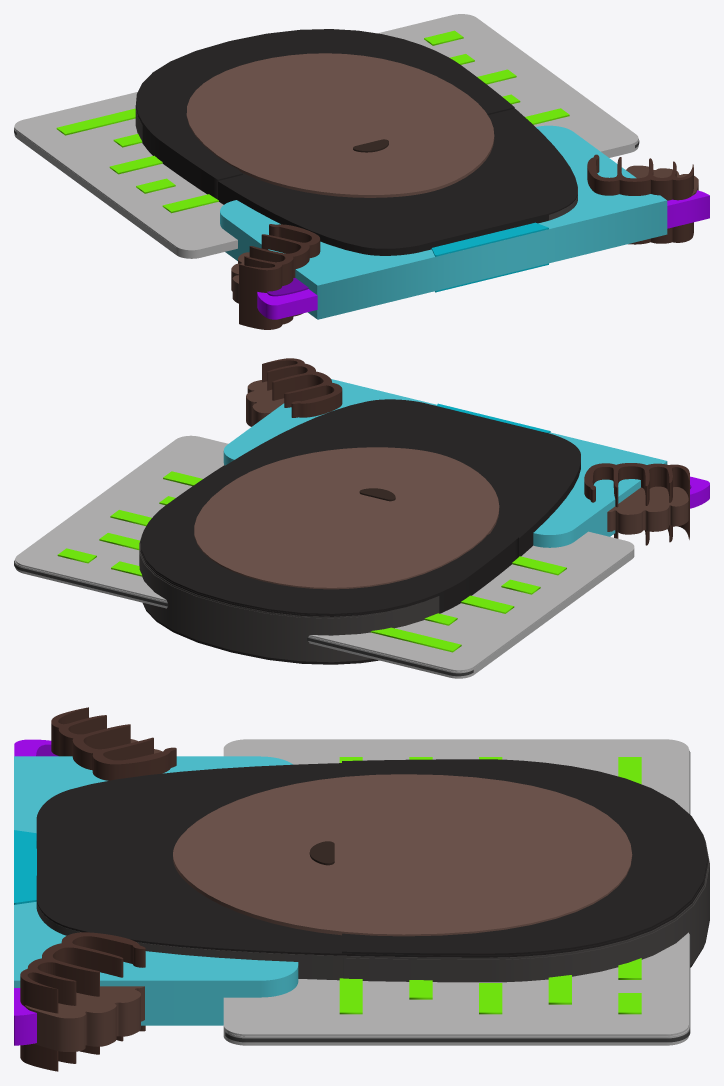
The model's file is emoji_u1f469_1f3ff_200d_1f4bb.glb.
3 renders of one model, top to bottom at view 1: azimuth 30°, elevation 25°; view 2: azimuth 150°, elevation 25°; view 3: azimuth 270°, elevation 25°, orthographic. The views are drawn at different scales.
Visible parts, largest first — view 1: emoji_u1f469_1f3ff_200d_1f4bb; view 2: emoji_u1f469_1f3ff_200d_1f4bb; view 3: emoji_u1f469_1f3ff_200d_1f4bb.
Part boxes in pixels (x1,y1,x2,y2): emoji_u1f469_1f3ff_200d_1f4bb: (14,14,709,329); emoji_u1f469_1f3ff_200d_1f4bb: (14,358,709,678); emoji_u1f469_1f3ff_200d_1f4bb: (14,707,709,1071).
Bounding box in the file's own units: 0.0339 × 0.0044 × 0.0337.
